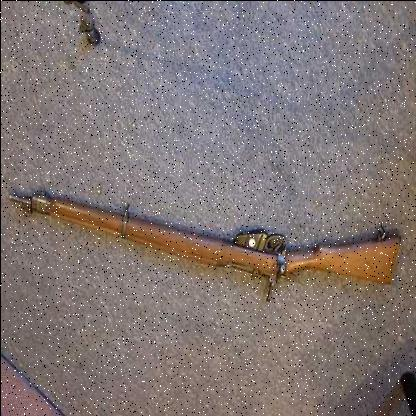rifle: (5, 161, 398, 324)
